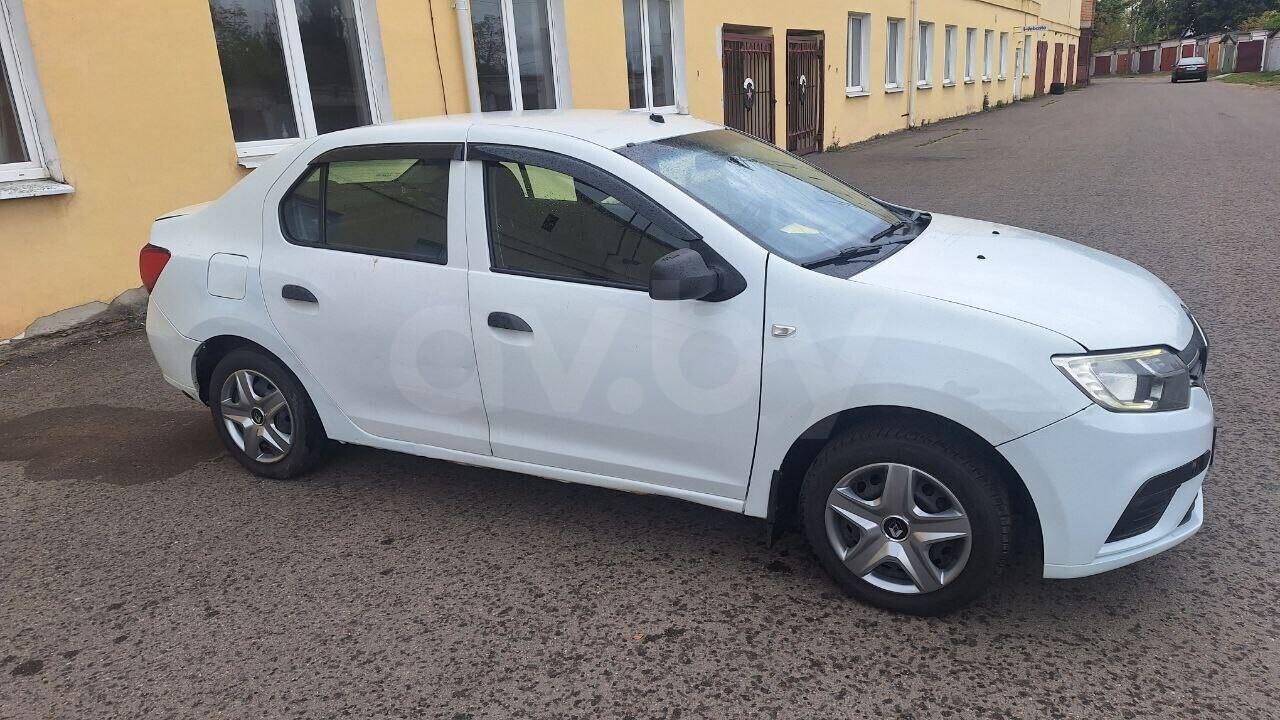Logan_2018: (136, 110, 1226, 610)
